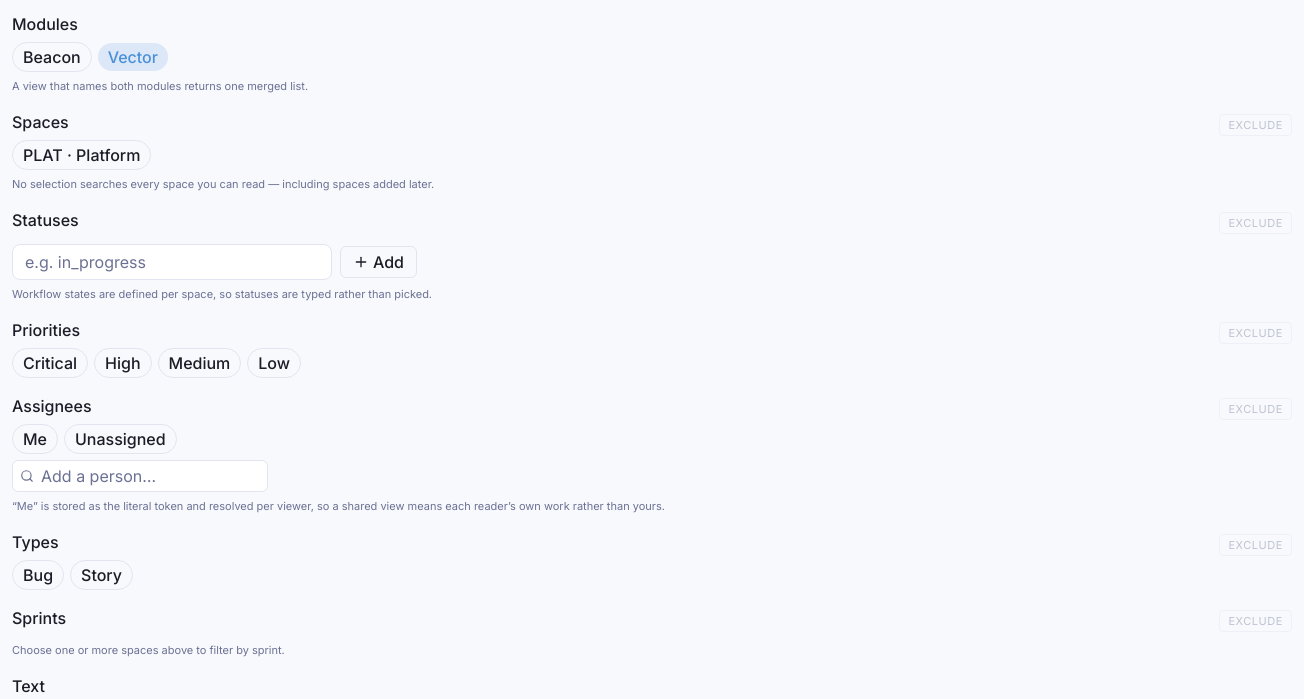
Test: QueryFilterBuilder — the vector-only fields › explains the rule while no module is chosen at all
This screenshot has width=1304, height=699.
What coordinates should you click on to do the following:
click the button "Vector"
I would click on:
 (133, 57)
Its box is left=98, top=43, right=168, bottom=71.
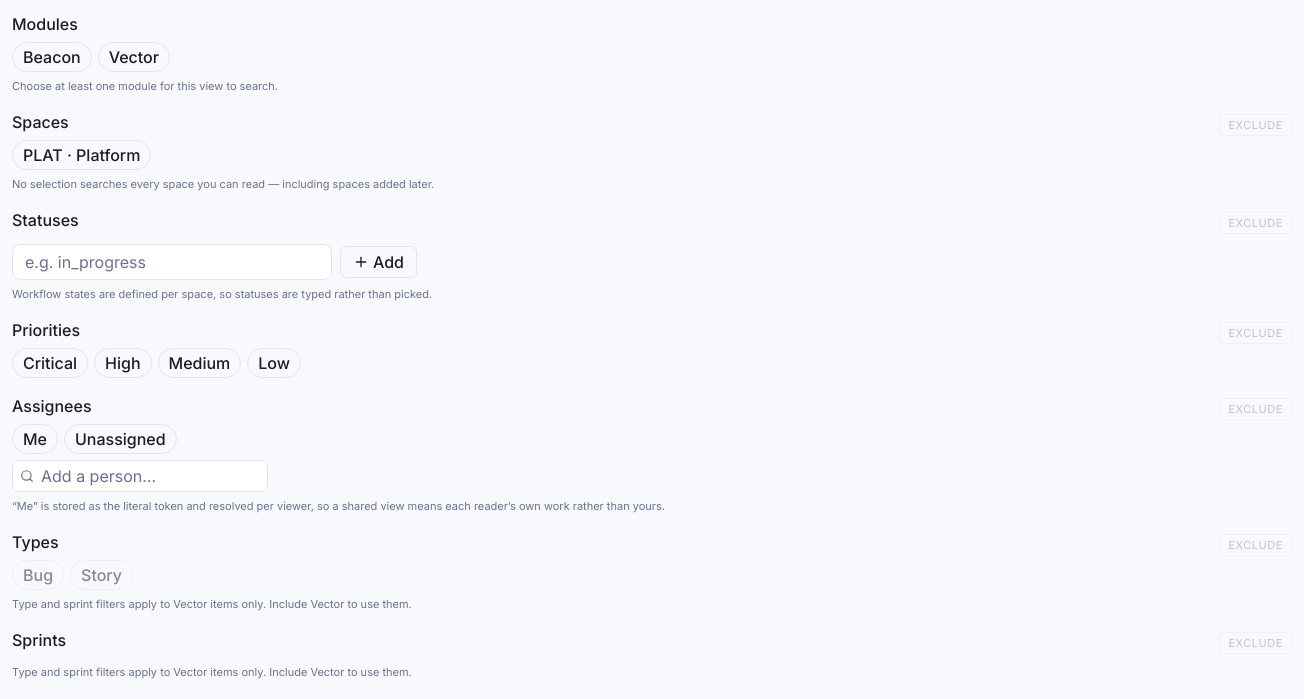
Check: the text with test id "view-kinds-reason" reads "Type and sprint filters apply to Vector items only. Include Vector to use them.", box left=12, top=597, right=412, bottom=611
